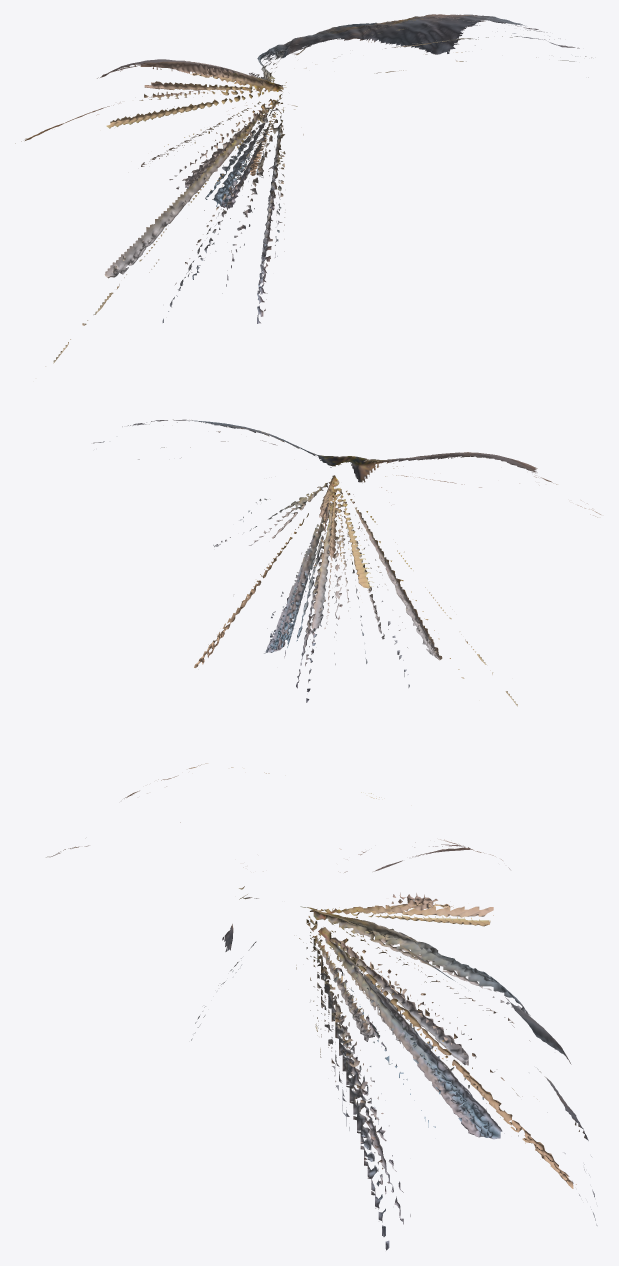
File: rio-collider.glb
3 renders of one model, top to bottom at view 1: azimuth 30°, elevation 25°; view 2: azimuth 150°, elevation 25°; view 3: azimuth 270°, elevation 25°, orthographic. The views are drawn at different scales.
Parts seen in each view (by area): view 1: world; view 2: world; view 3: world.
Part boxes in pixels (<box>): world: <box>15,14,591,366</box>; world: <box>93,419,600,706</box>; world: <box>46,763,597,1250</box>.
Bounding box in the file's own units: 327 × 143 × 219.
